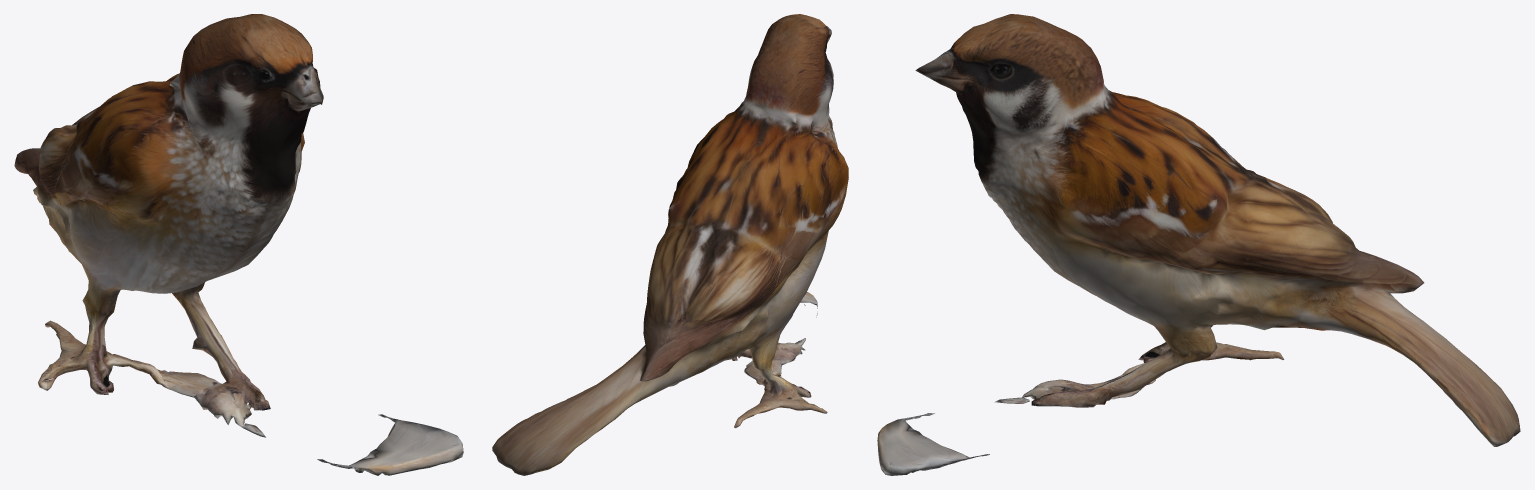
The model's file is นกกระจอ_0521090051_texture.glb.
3 views of the same model, side by side, from view 1: azimuth 30°, elevation 25°; view 2: azimuth 150°, elevation 25°; view 3: azimuth 270°, elevation 25° (orthographic). The views are drawn at different scales.
Bounding box in the file's own units: 0.8972 × 1.32 × 1.96.
Materials: 1 (1 with a texture image).
